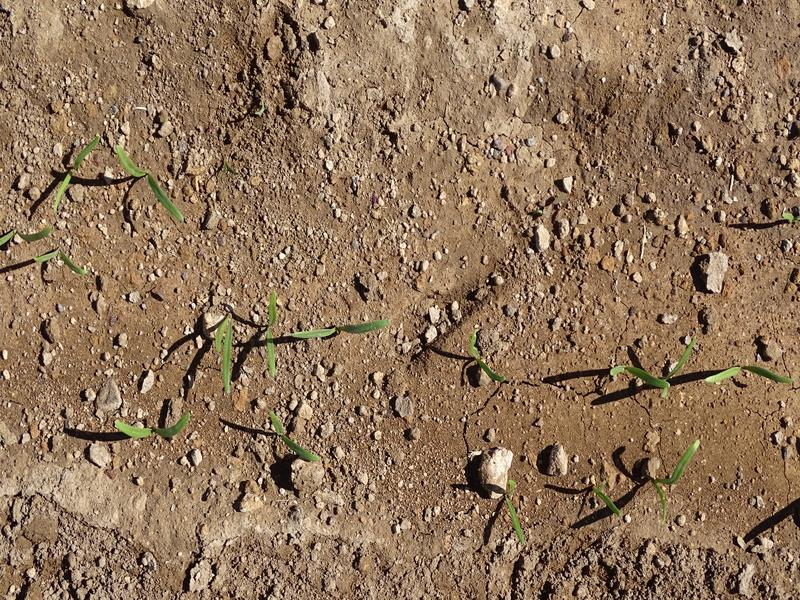Espinaca: (109, 142, 188, 225), (643, 435, 707, 514), (605, 344, 693, 397), (200, 310, 247, 396), (53, 136, 100, 213), (460, 323, 512, 387), (111, 412, 200, 446), (264, 410, 322, 461), (702, 361, 795, 391), (288, 315, 390, 341), (498, 484, 536, 553), (259, 288, 285, 380), (29, 246, 90, 274), (1, 223, 52, 239)
